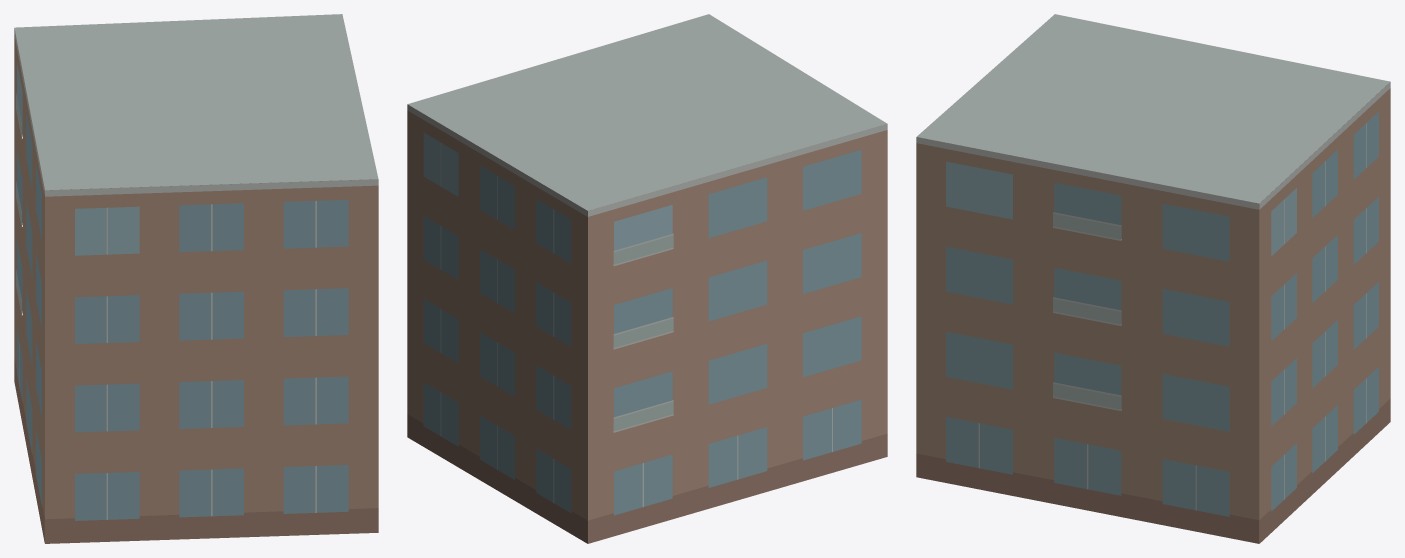
The model's file is survey-upis-32622150.glb.
3 views of the same model, side by side, from view 1: azimuth 30°, elevation 25°; view 2: azimuth 150°, elevation 25°; view 3: azimuth 270°, elevation 25° (orthographic). The views are drawn at different scales.
Visible parts, largest first — view 1: survey-upis-32622150.tmp; view 2: survey-upis-32622150.tmp; view 3: survey-upis-32622150.tmp.
Boxes of the visible parts, x1,y1,x2,y2 form: survey-upis-32622150.tmp: (14, 14, 378, 543); survey-upis-32622150.tmp: (407, 14, 887, 543); survey-upis-32622150.tmp: (916, 14, 1390, 543).
Bounding box in the file's own units: 15.96 × 13.35 × 16.87.
